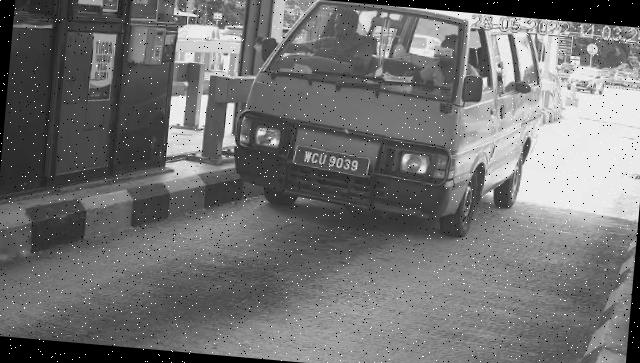License_Plate: (293, 145, 372, 180)
van: (229, 1, 549, 243)
